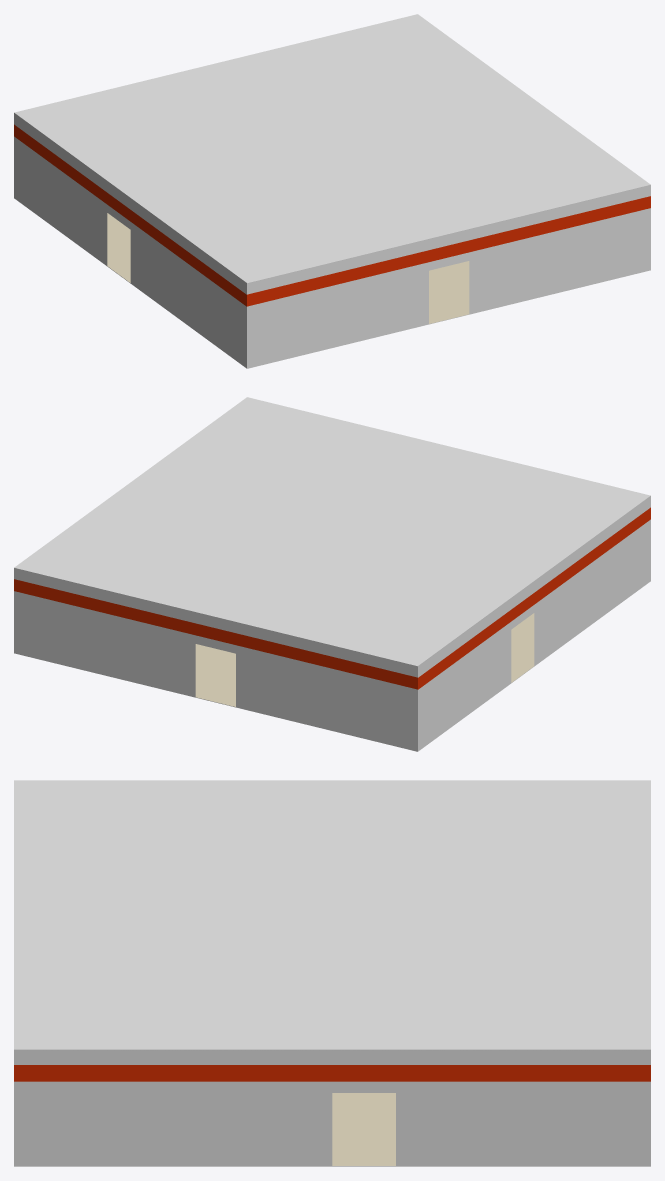
Rendered from room.glb.
3 renders of one model, top to bottom at view 1: azimuth 30°, elevation 25°; view 2: azimuth 150°, elevation 25°; view 3: azimuth 270°, elevation 25°, orthographic. The views are drawn at different scales.
Visible parts, largest first — view 1: Box_TopAreaLamp, Box_RoomArea; view 2: Box_TopAreaLamp, Box_RoomArea; view 3: Box_TopAreaLamp, Box_RoomArea.
Boxes of the visible parts, box(x1,y1,x2,y2) form: Box_TopAreaLamp: box(14, 14, 650, 283); Box_RoomArea: box(14, 113, 650, 368); Box_TopAreaLamp: box(14, 397, 650, 666); Box_RoomArea: box(14, 496, 650, 751); Box_TopAreaLamp: box(14, 780, 650, 1050); Box_RoomArea: box(14, 1050, 650, 1166).
Size of the model in its own units: 20 by 4.06 by 20.
